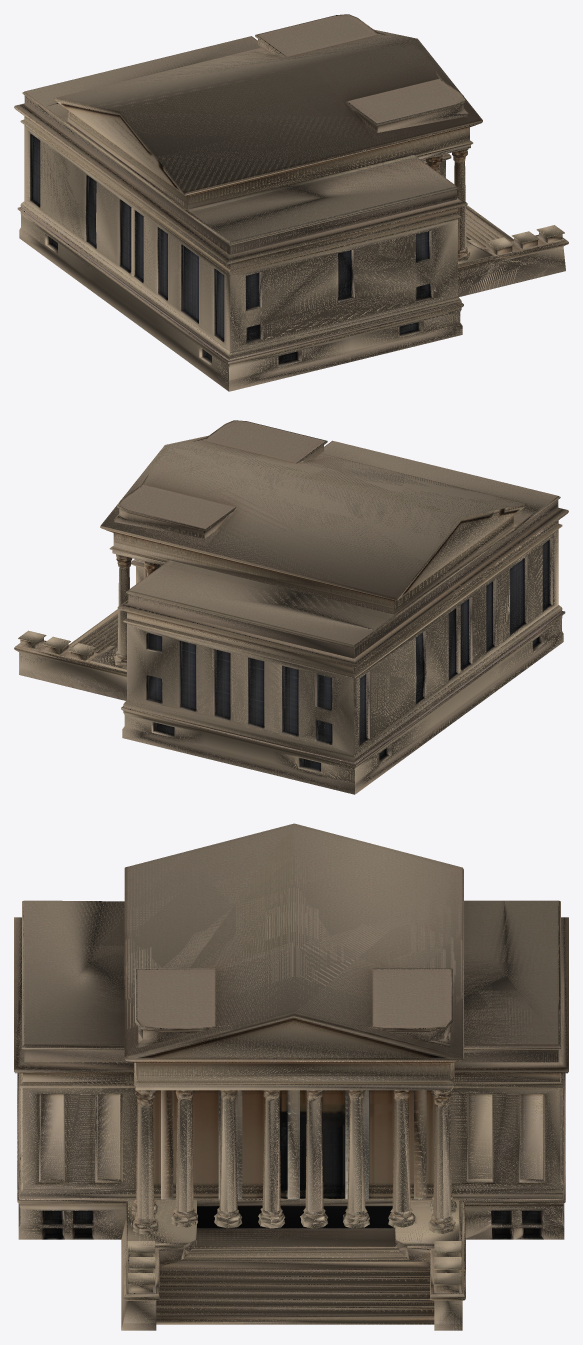
Rendered from JiaoTang.fbx.
3 renders of one model, top to bottom at view 1: azimuth 30°, elevation 25°; view 2: azimuth 150°, elevation 25°; view 3: azimuth 270°, elevation 25°, orthographic. The views are drawn at different scales.
Parts seen in each view (by area): view 1: tripo_node_3df55a54-cd04-456b-adae-f64fb7e85234; view 2: tripo_node_3df55a54-cd04-456b-adae-f64fb7e85234; view 3: tripo_node_3df55a54-cd04-456b-adae-f64fb7e85234.
Part boxes in pixels (x1,y1,x2,y2): tripo_node_3df55a54-cd04-456b-adae-f64fb7e85234: (14, 14, 568, 391); tripo_node_3df55a54-cd04-456b-adae-f64fb7e85234: (14, 420, 568, 794); tripo_node_3df55a54-cd04-456b-adae-f64fb7e85234: (14, 823, 568, 1330).
Size of the model in its own units: 9980 by 5059 by 9590.
Materials: 1 (1 with a texture image).
